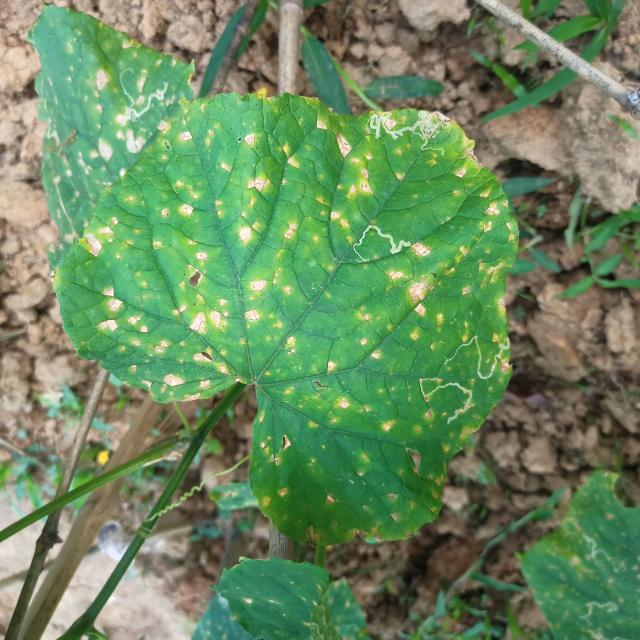disease_cucumber: (77, 107, 508, 538), (42, 35, 171, 205)
